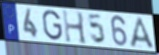4: (22, 7, 40, 40)
5: (87, 13, 106, 45)
6: (110, 14, 129, 48)
A: (129, 16, 157, 51)
G: (41, 9, 63, 42)
H: (61, 9, 88, 46)
